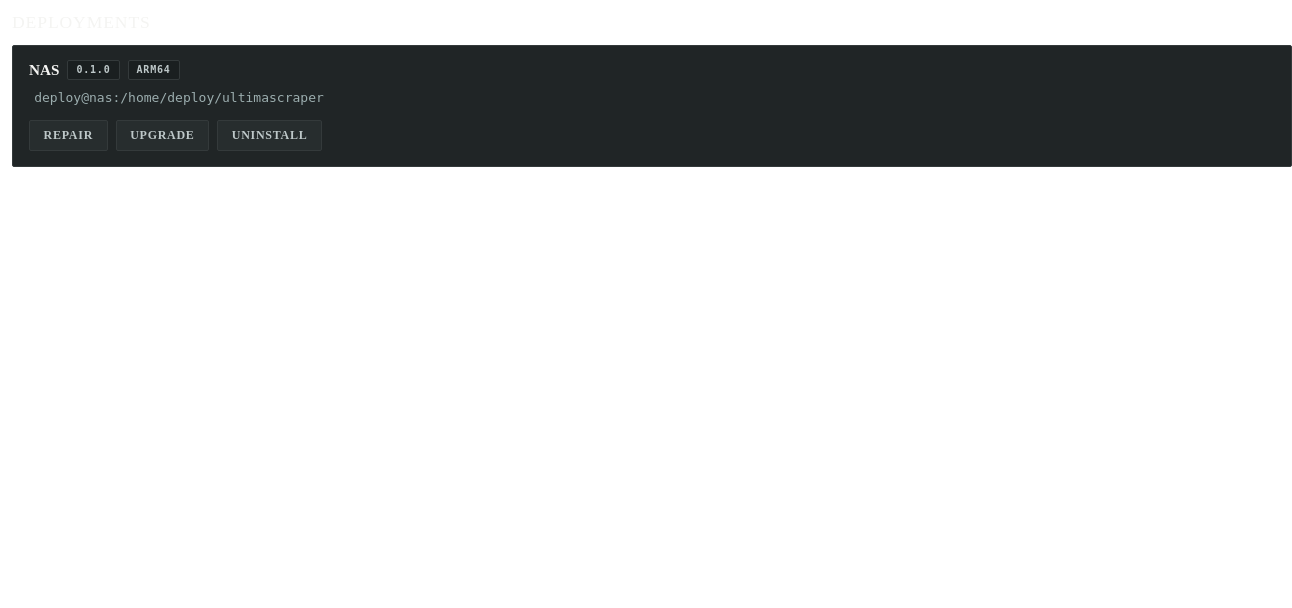
Test: DeploymentsSection › uninstalls with fresh credentials and keeps the data unless asked
The width and height of the screenshot is (1292, 608).
Check: the text "NAS" is shown, box top-left (29, 61), bottom-right (59, 79)
Check: the text "arm64" is shown, box top-left (128, 60), bottom-right (180, 80)
Click the button "Uninstall": {"x": 270, "y": 136} top-left (217, 120), bottom-right (322, 151)
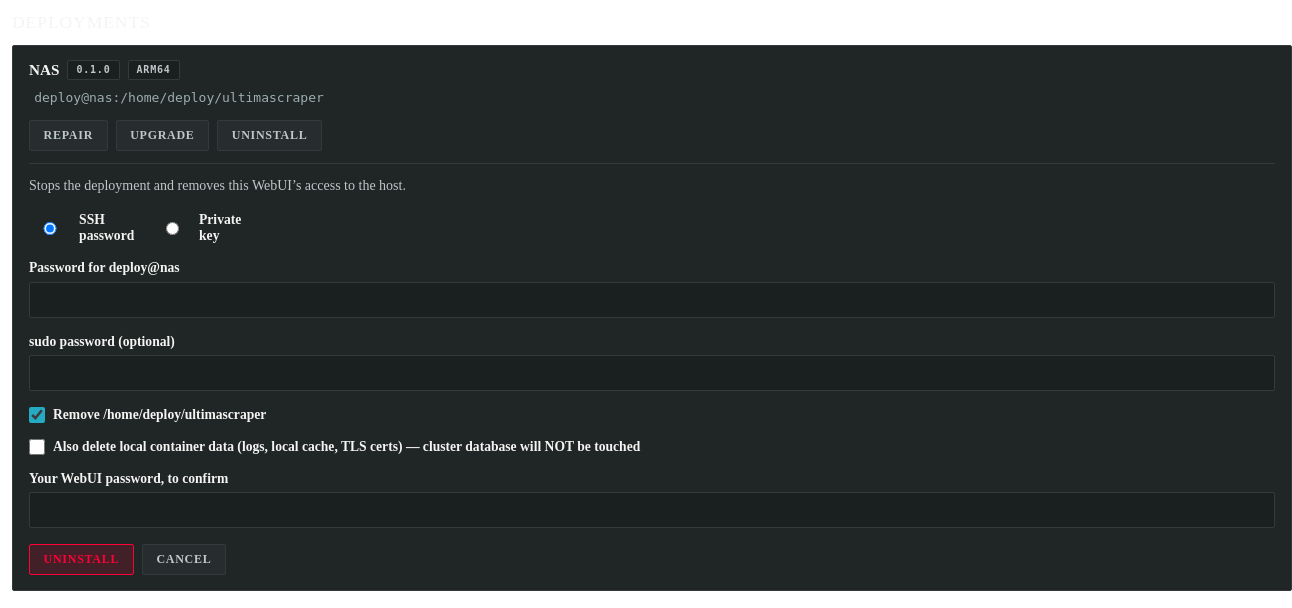
Check: the 2nd checkbox is not checked, box top-left (29, 439), bottom-right (45, 455)
In the password field labelled "Password for deploy@nas": {"x": 652, "y": 300} top-left (29, 282), bottom-right (1275, 318), type "ssh-password"
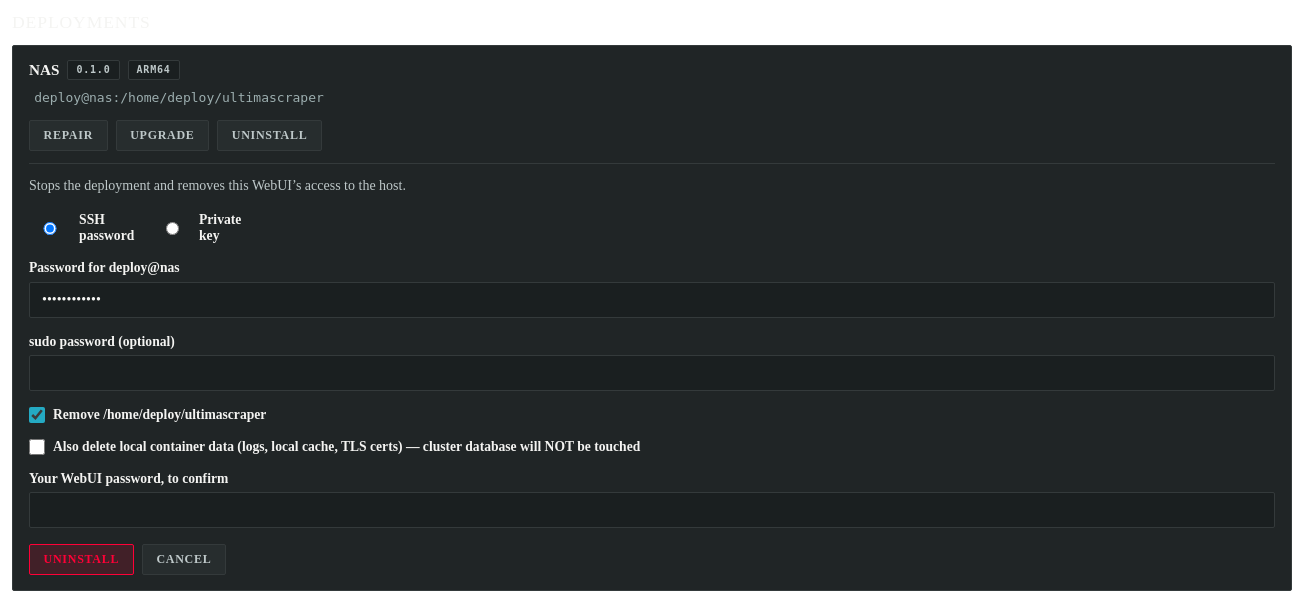
In the password field labelled "Your WebUI password, to confirm": {"x": 652, "y": 510} top-left (29, 492), bottom-right (1275, 528), type "site-password"
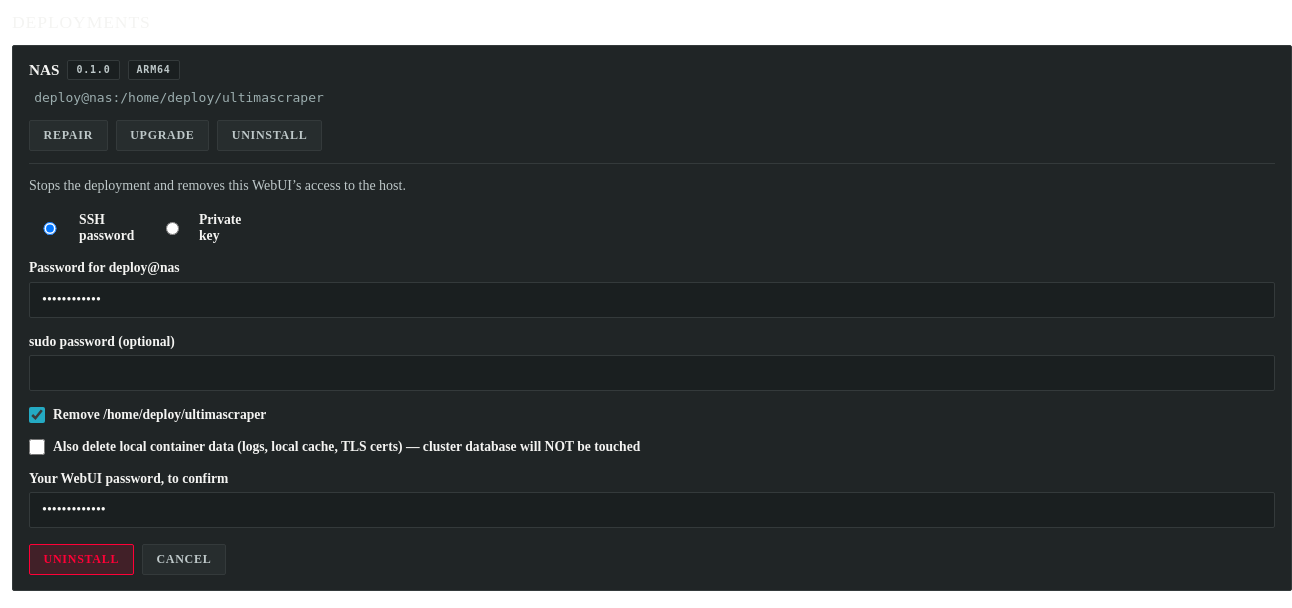
Click the button "Uninstall" below "Your WebUI password, to confirm": {"x": 81, "y": 560} top-left (29, 544), bottom-right (134, 575)
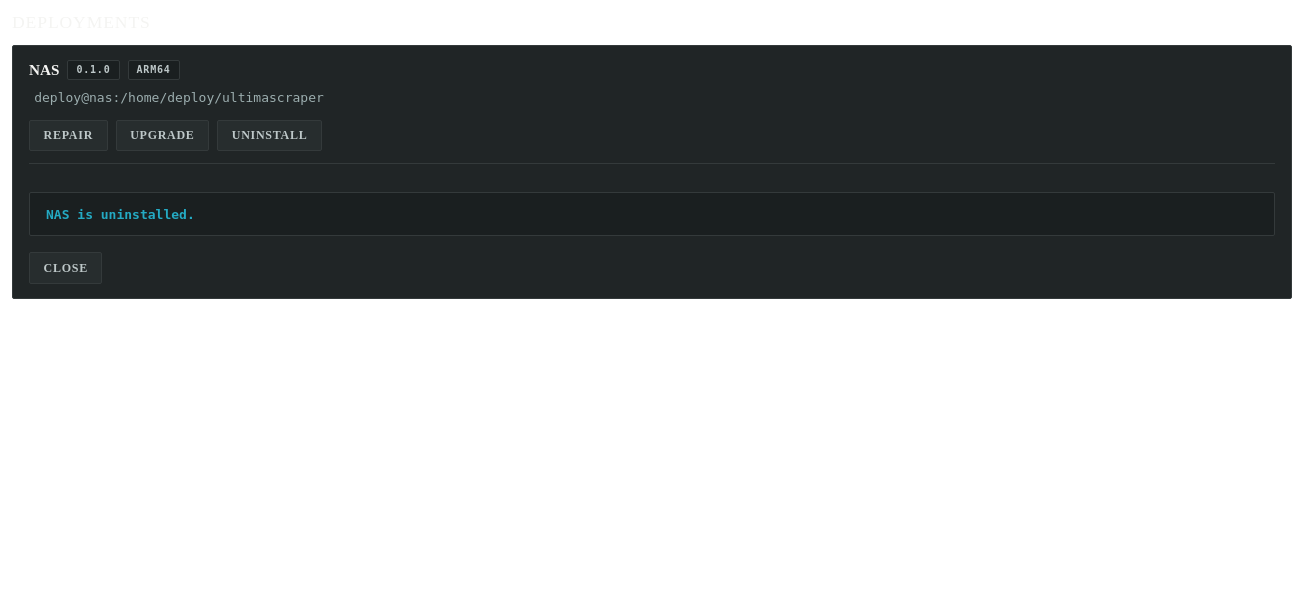
Check: the list item "NAS is uninstalled." is shown, box top-left (46, 207), bottom-right (195, 222)
